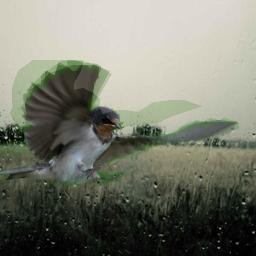Swallow: (0, 60, 239, 186)
